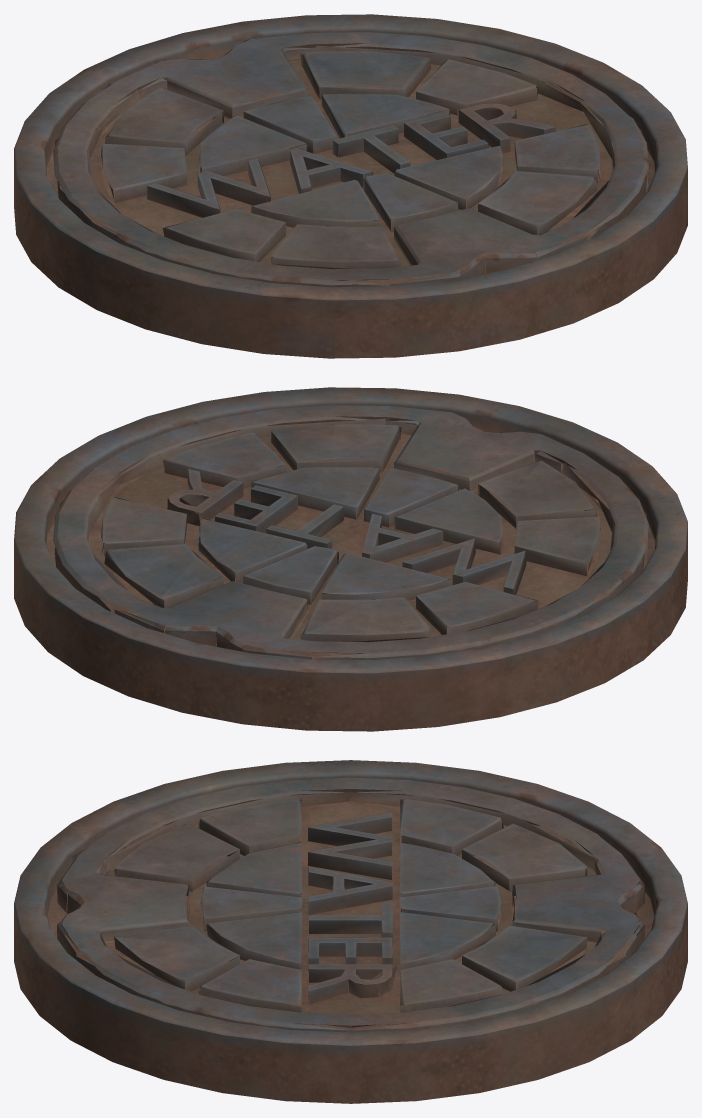
The model's file is water_manhole_cover.fbx.
3 views of the same model, one above another, from view 1: azimuth 30°, elevation 25°; view 2: azimuth 150°, elevation 25°; view 3: azimuth 270°, elevation 25° (orthographic).
Parts seen in each view (by area): view 1: water_manhole_cover, water_manhole_cover_frame; view 2: water_manhole_cover, water_manhole_cover_frame; view 3: water_manhole_cover, water_manhole_cover_frame.
Boxes of the visible parts, left/top/right/bottom form: water_manhole_cover: left=53, top=32, right=648, bottom=286; water_manhole_cover_frame: left=14, top=14, right=687, bottom=358; water_manhole_cover: left=53, top=405, right=648, bottom=659; water_manhole_cover_frame: left=14, top=387, right=687, bottom=731; water_manhole_cover: left=57, top=777, right=644, bottom=1032; water_manhole_cover_frame: left=14, top=760, right=687, bottom=1103.
Size of the model in its own units: 69.08 by 6.81 by 69.08.
Materials: 1 (1 with a texture image).
